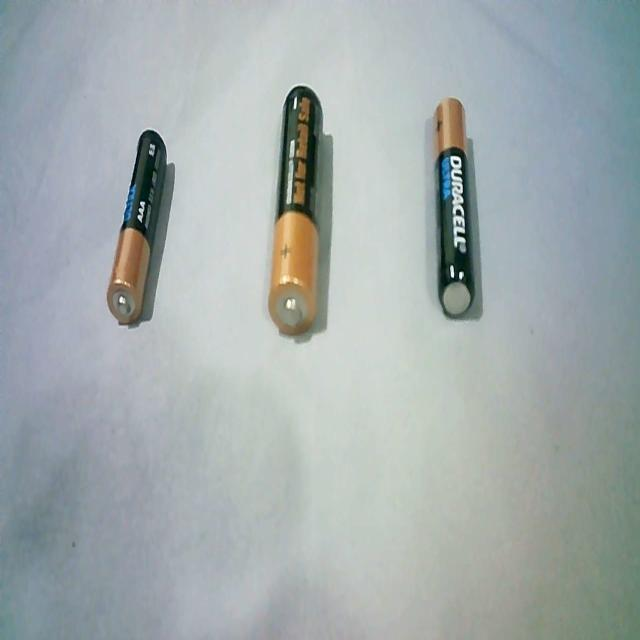AA: (264, 80, 333, 343)
AAA: (104, 120, 172, 328), (427, 94, 483, 325)
